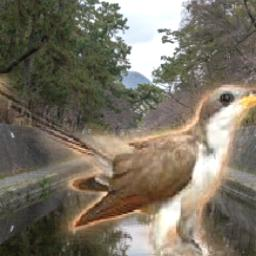Cuckoo: (0, 73, 256, 256)
